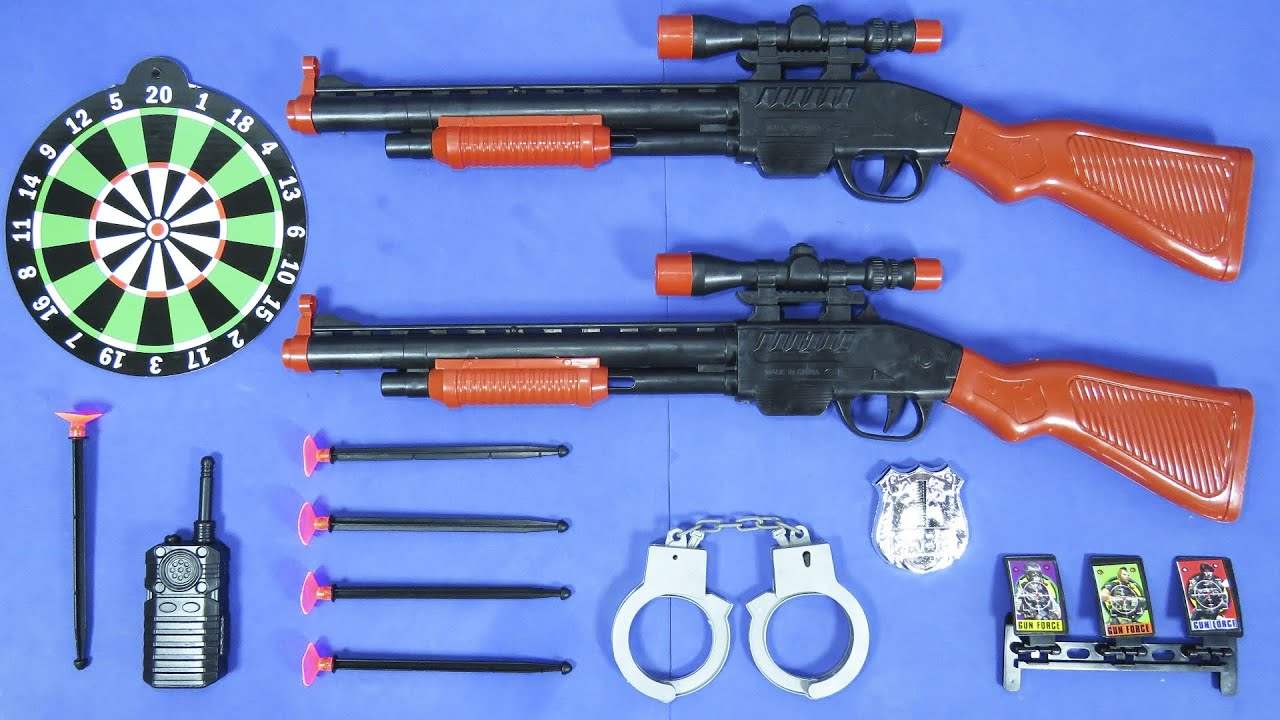Arma Falsa: (277, 250, 1256, 524), (272, 7, 1250, 279)
